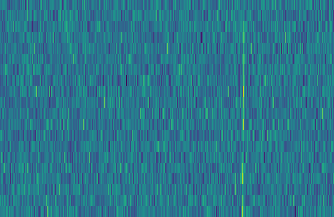signal: (239, 0, 249, 217)
